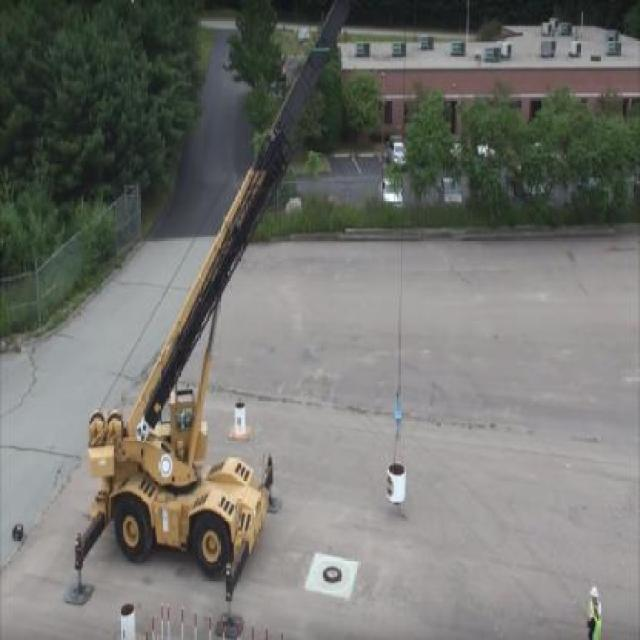Mobile Crane: (65, 0, 360, 609)
